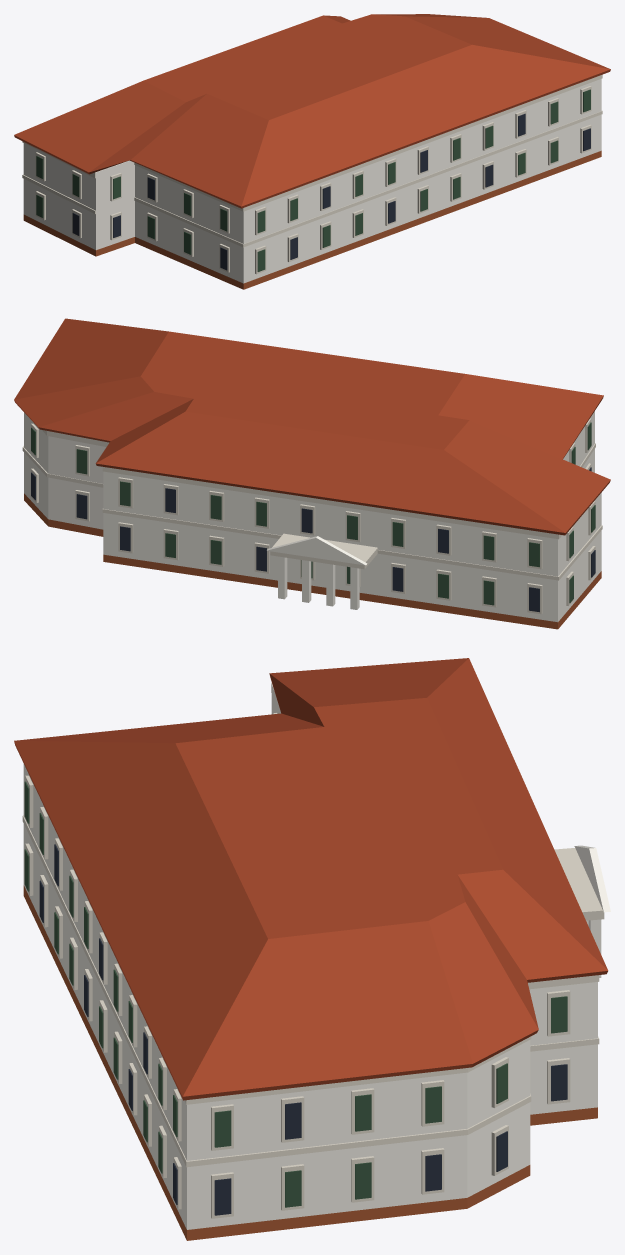
The model's file is secretariat.glb.
The picture shows the model from 3 angles, top to bottom: view 1: azimuth 30°, elevation 25°; view 2: azimuth 150°, elevation 25°; view 3: azimuth 270°, elevation 25°; orthographic projection. The views are drawn at different scales.
Parts seen in each view (by area): view 1: r, p.001, p, p.003, p.002; view 2: r, p.001, p, p.002, p.003, ped, Cube.140; view 3: r, p.001, p, p.003, p.002, Cube.140, ped.
Part boxes in pixels (x1=…): r: x1=14, y1=14, x2=610, y2=208; p.001: x1=23, y1=79, x2=601, y2=283; p: x1=23, y1=150, x2=601, y2=289; p.003: x1=22, y1=110, x2=602, y2=247; p.002: x1=22, y1=74, x2=602, y2=211; r: x1=14, y1=318, x2=610, y2=535; p.001: x1=24, y1=411, x2=601, y2=622; p: x1=24, y1=493, x2=601, y2=629; p.002: x1=42, y1=430, x2=562, y2=539; p.003: x1=22, y1=443, x2=602, y2=580; ped: x1=267, y1=536, x2=367, y2=565; Cube.140: x1=270, y1=533, x2=377, y2=569; r: x1=14, y1=658, x2=608, y2=1100; p.001: x1=23, y1=684, x2=597, y2=1229; p: x1=23, y1=885, x2=597, y2=1240; p.003: x1=22, y1=815, x2=599, y2=1167; p.002: x1=184, y1=683, x2=599, y2=1104; Cube.140: x1=554, y1=848, x2=604, y2=920; ped: x1=574, y1=845, x2=610, y2=912.
Size of the model in its own units: 85.89 by 19.29 by 49.38.
